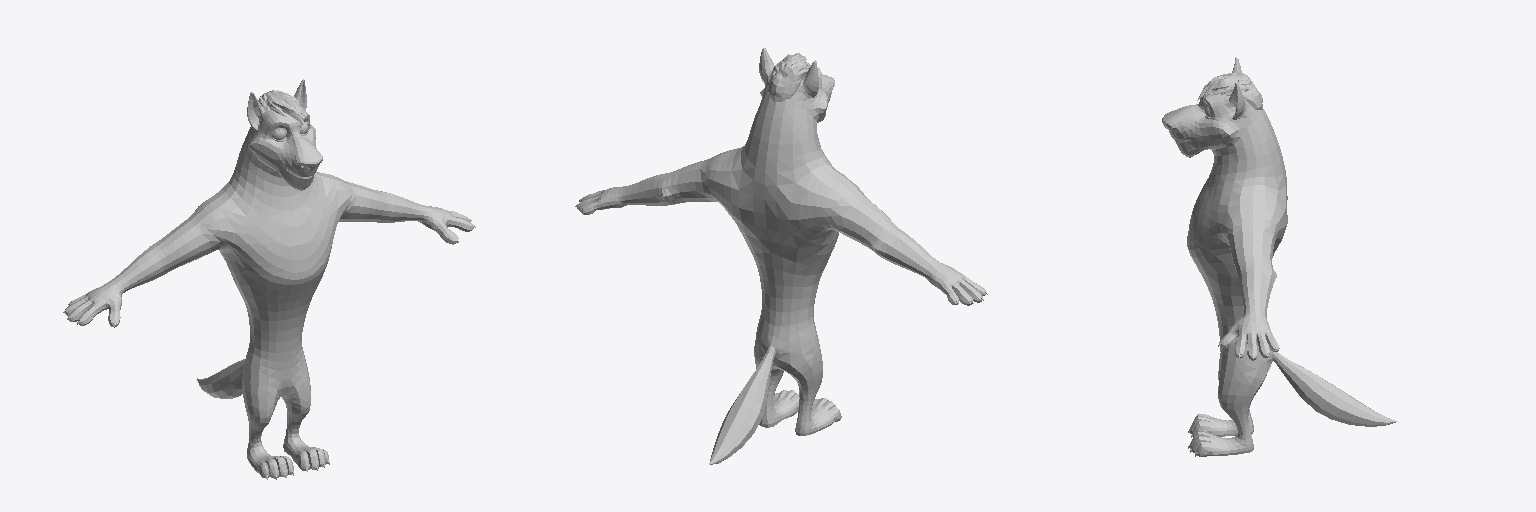
File: Gray.obj
3 views of the same model, side by side, from view 1: azimuth 30°, elevation 25°; view 2: azimuth 150°, elevation 25°; view 3: azimuth 270°, elevation 25° (orthographic).
Parts seen in each view (by area): view 1: Gray; view 2: Gray; view 3: Gray.
Boxes of the visible parts, x1=… form: Gray: x1=63, y1=79, x2=475, y2=479; Gray: x1=575, y1=48, x2=987, y2=464; Gray: x1=1162, y1=57, x2=1397, y2=456.
Size of the model in its own units: 47.27 by 41.53 by 23.94.